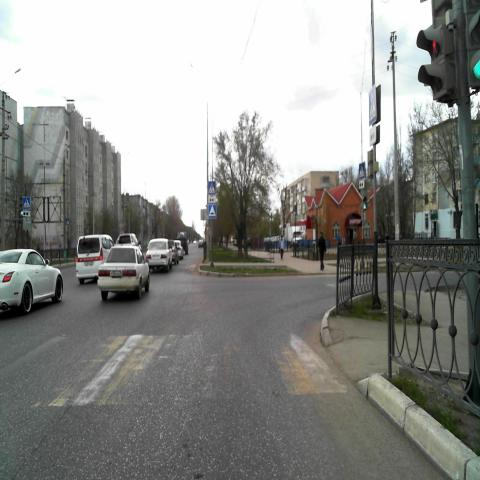8_15: (368, 126, 376, 144)
